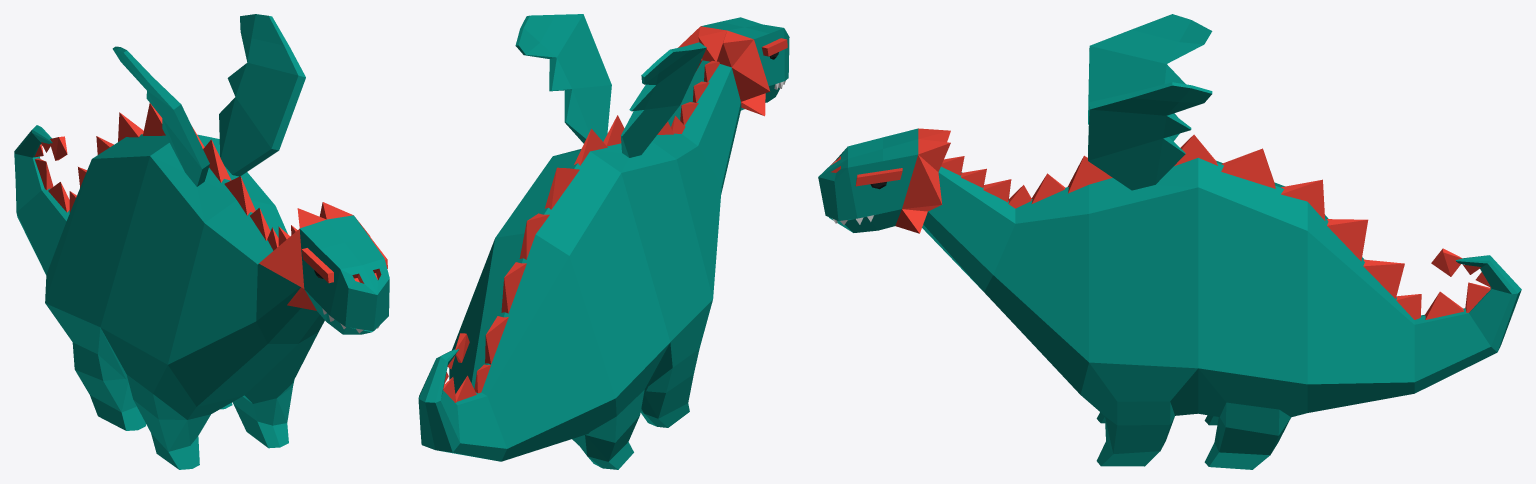
File: 3ZuMS3IRb0C.glb
3 views of the same model, side by side, from view 1: azimuth 30°, elevation 25°; view 2: azimuth 150°, elevation 25°; view 3: azimuth 270°, elevation 25° (orthographic).
Parts seen in each view (by area): view 1: Dragon_01_Cube.026; view 2: Dragon_01_Cube.026; view 3: Dragon_01_Cube.026.
Boxes of the visible parts, x1,y1,x2,y2 form: Dragon_01_Cube.026: (14, 14, 389, 469); Dragon_01_Cube.026: (418, 14, 789, 469); Dragon_01_Cube.026: (818, 14, 1521, 469).
Bounding box in the file's own units: 8.81 × 19.87 × 32.23.
